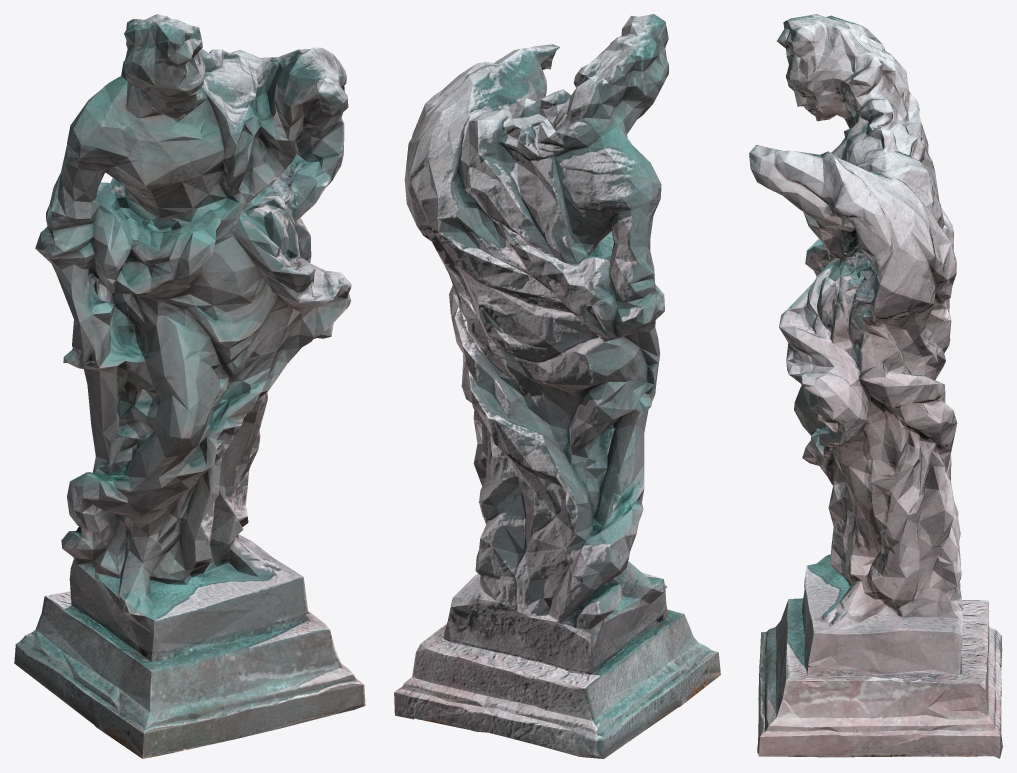
File: spravedlnost2.glb
The picture shows the model from 3 angles, left to right: view 1: azimuth 30°, elevation 25°; view 2: azimuth 150°, elevation 25°; view 3: azimuth 270°, elevation 25°; orthographic projection. The views are drawn at different scales.
Visible parts, largest first — view 1: Spravedlnost; view 2: Spravedlnost; view 3: Spravedlnost.
Part boxes in pixels (left/top/right/bottom): Spravedlnost: left=14, top=14, right=365, bottom=758; Spravedlnost: left=394, top=14, right=720, bottom=758; Spravedlnost: left=749, top=14, right=1002, bottom=758.
Bounding box in the file's own units: 1.11 × 2.64 × 0.9128.
Materials: 1 (1 with a texture image).
